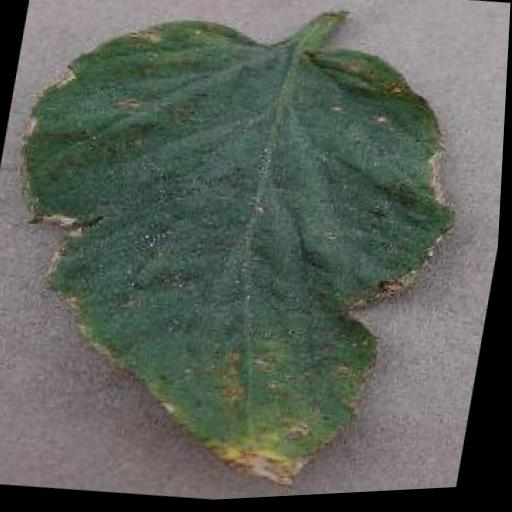Bacterial Spot: (0, 0, 492, 512)
